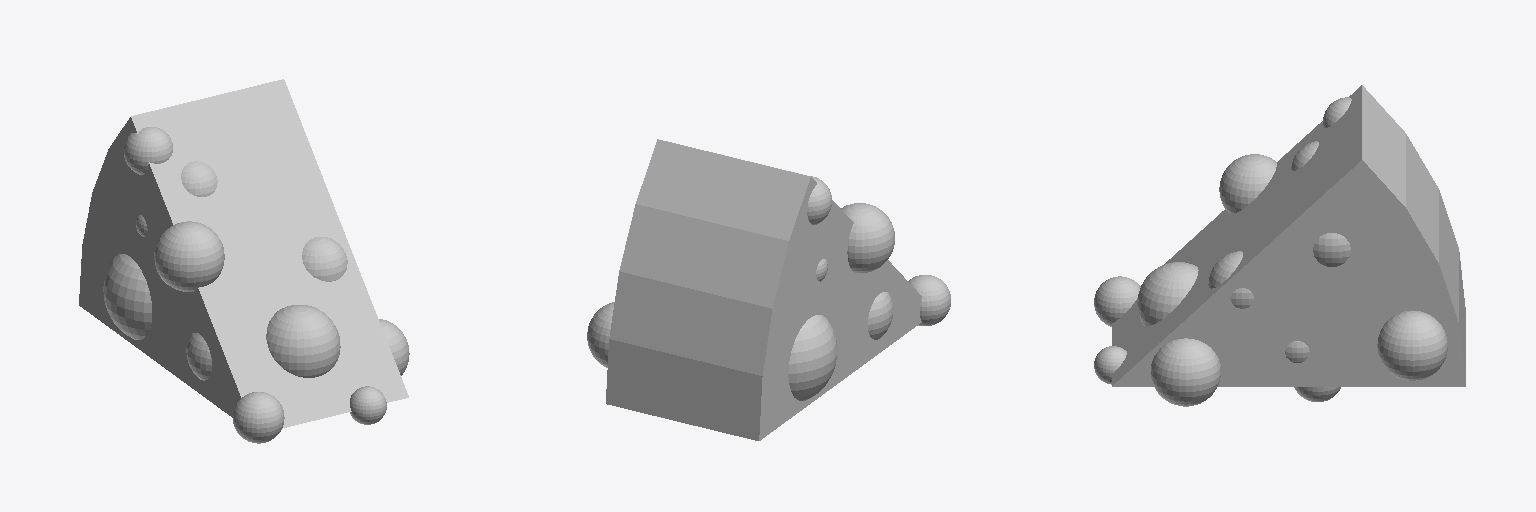
Rendered from camembert.obj.
3 views of the same model, side by side, from view 1: azimuth 30°, elevation 25°; view 2: azimuth 150°, elevation 25°; view 3: azimuth 270°, elevation 25° (orthographic).
Visible parts, largest first — view 1: Cylinder, Holes_Sphere; view 2: Cylinder, Holes_Sphere; view 3: Cylinder, Holes_Sphere.
Part boxes in pixels (bbox=[...]): Cylinder: bbox=[79, 79, 408, 428]; Holes_Sphere: bbox=[103, 127, 409, 443]; Cylinder: bbox=[606, 139, 921, 440]; Holes_Sphere: bbox=[587, 176, 950, 400]; Cylinder: bbox=[1112, 85, 1465, 386]; Holes_Sphere: bbox=[1094, 97, 1447, 406].
Size of the model in its own units: 7.17 by 8.11 by 10.5.